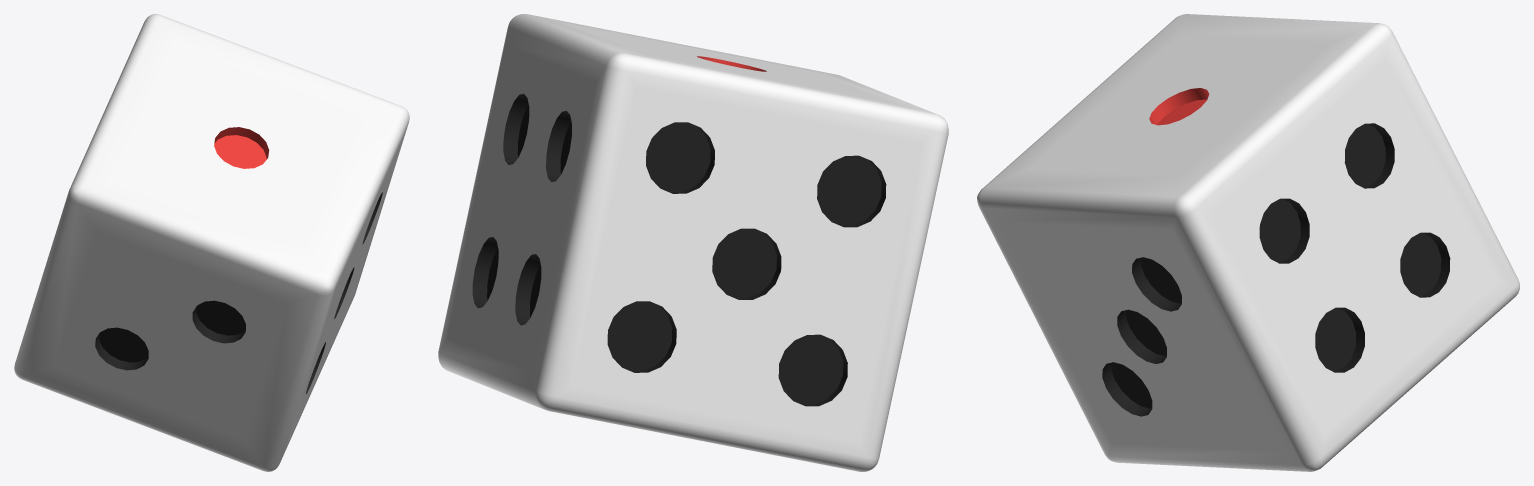
Rendered from game_die.glb.
3 views of the same model, side by side, from view 1: azimuth 30°, elevation 25°; view 2: azimuth 150°, elevation 25°; view 3: azimuth 270°, elevation 25° (orthographic). The views are drawn at different scales.
Parts seen in each view (by area): view 1: Plane.317; view 2: Plane.317; view 3: Plane.317.
Boxes of the visible parts, <box> form: Plane.317: <box>14,14,409,471</box>; Plane.317: <box>438,14,948,471</box>; Plane.317: <box>977,14,1519,471</box>.
Size of the model in its own units: 1.96 by 2.07 by 2.34.
Materials: 1 (1 with a texture image).
